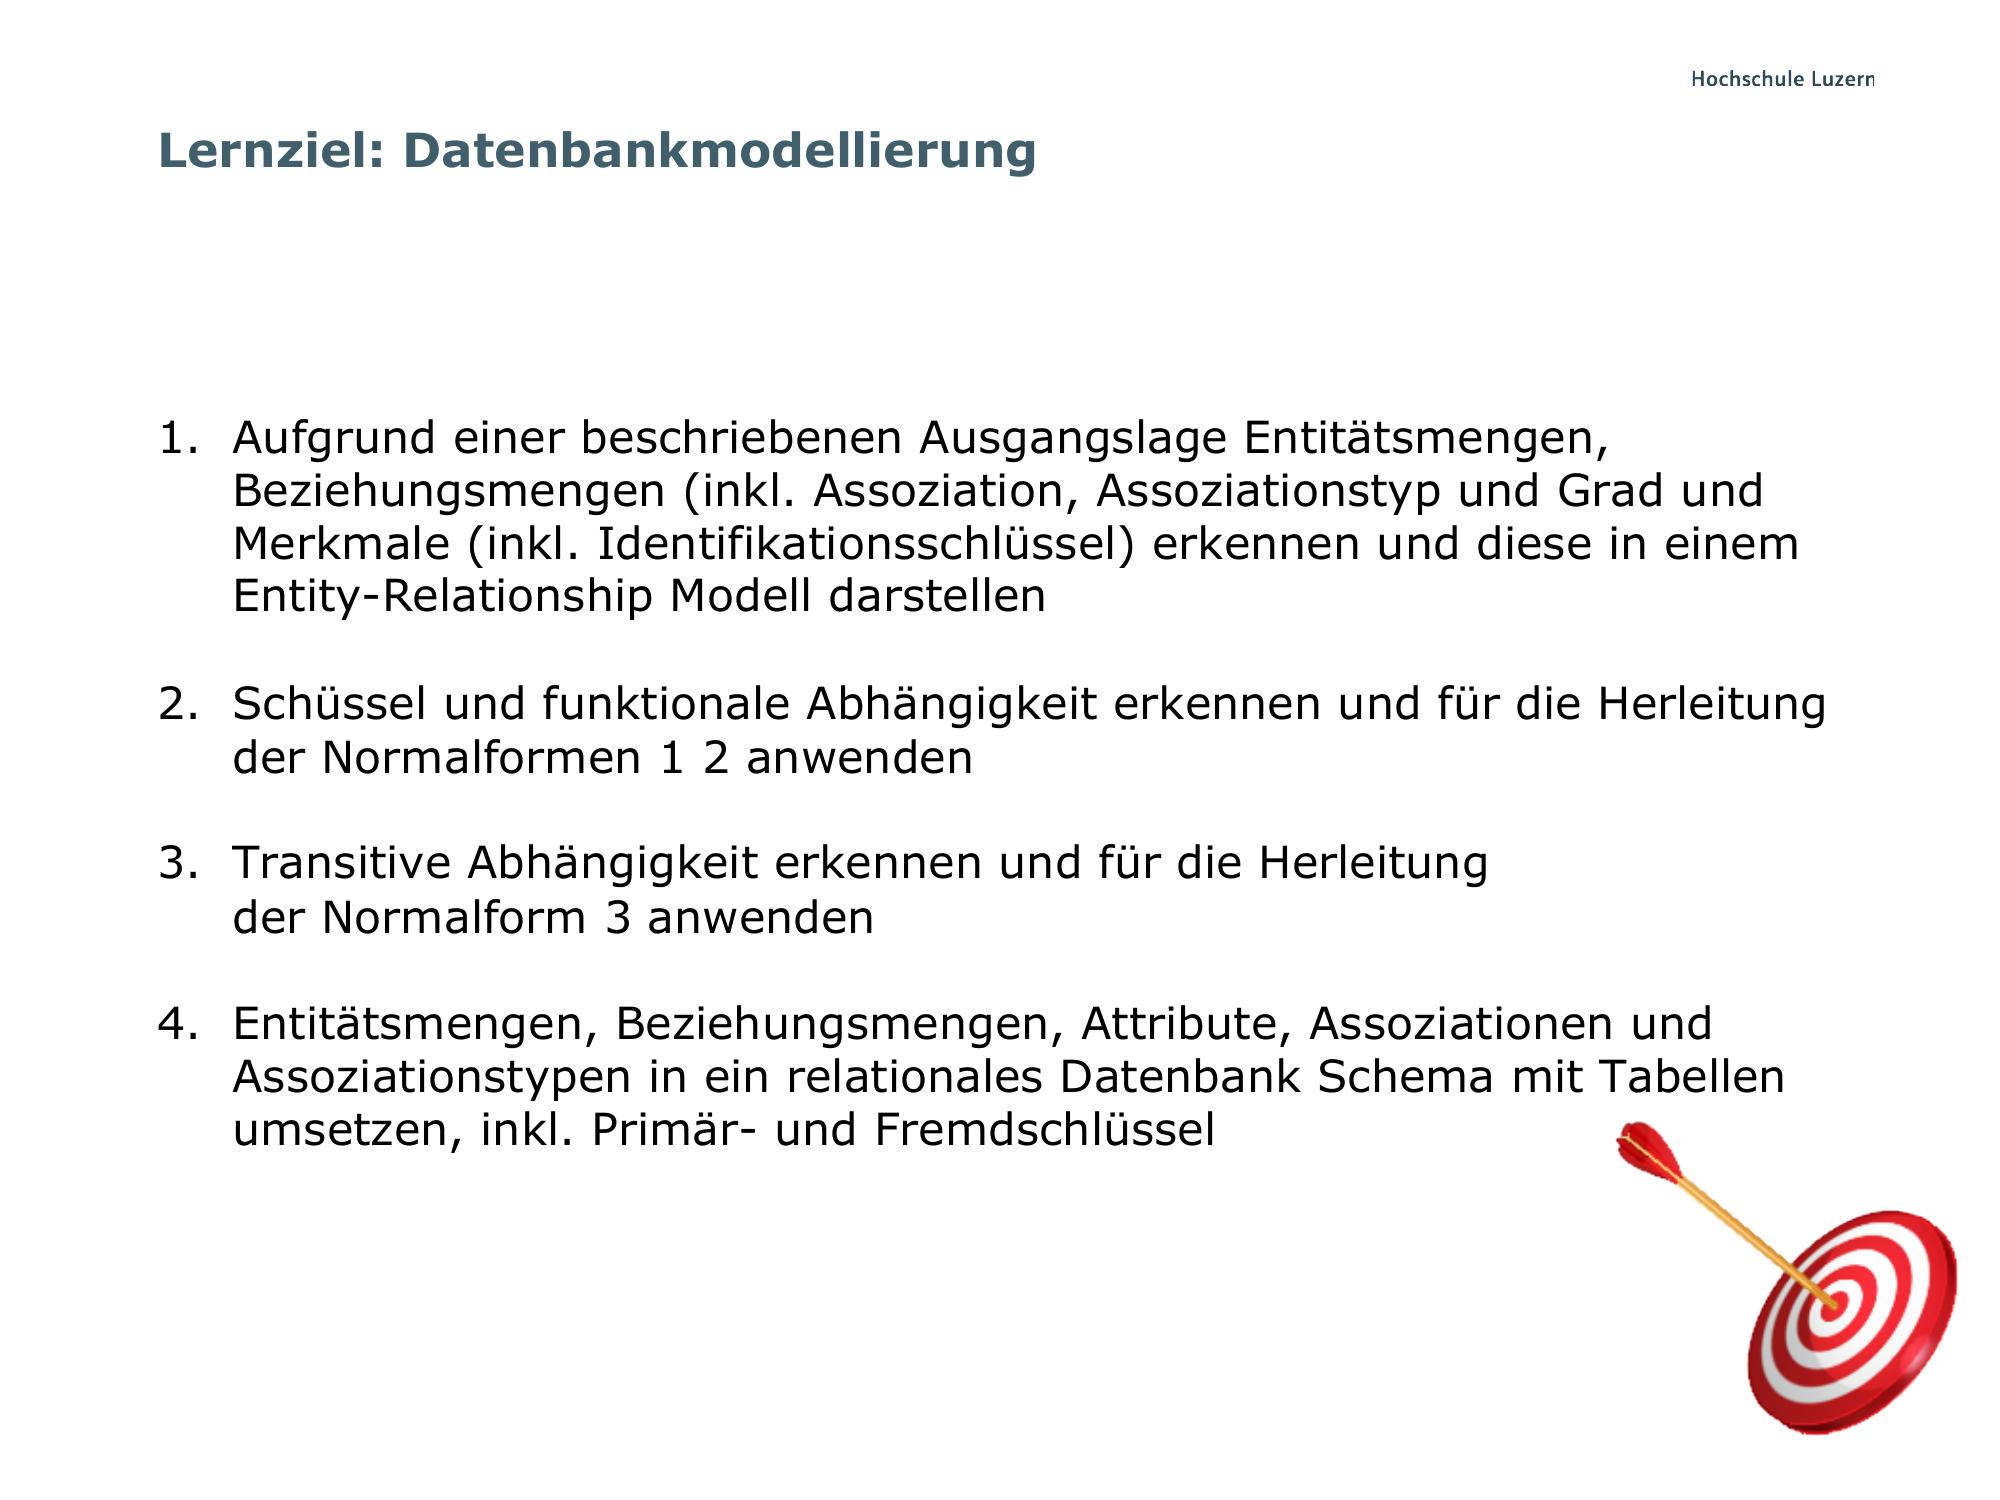Title: (150, 110, 1058, 192)
